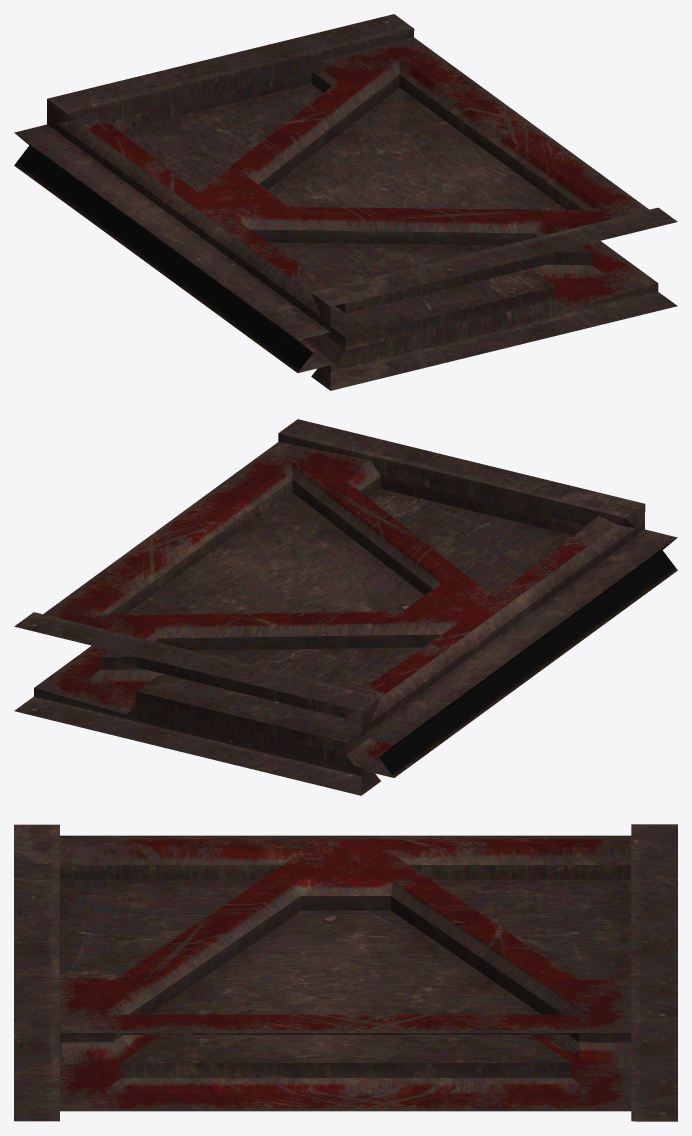
The model's file is ContDoorLeft.dae.
The picture shows the model from 3 angles, top to bottom: view 1: azimuth 30°, elevation 25°; view 2: azimuth 150°, elevation 25°; view 3: azimuth 270°, elevation 25°; orthographic projection. The views are drawn at different scales.
Parts seen in each view (by area): view 1: ContDoorLeft; view 2: ContDoorLeft; view 3: ContDoorLeft.
Part boxes in pixels (<box>): ContDoorLeft: <box>14,14,677,390</box>; ContDoorLeft: <box>14,419,677,795</box>; ContDoorLeft: <box>14,824,677,1121</box>.
Size of the model in its own units: 4.44 by 5.74 by 0.9427.
1 material, 1 textured.
